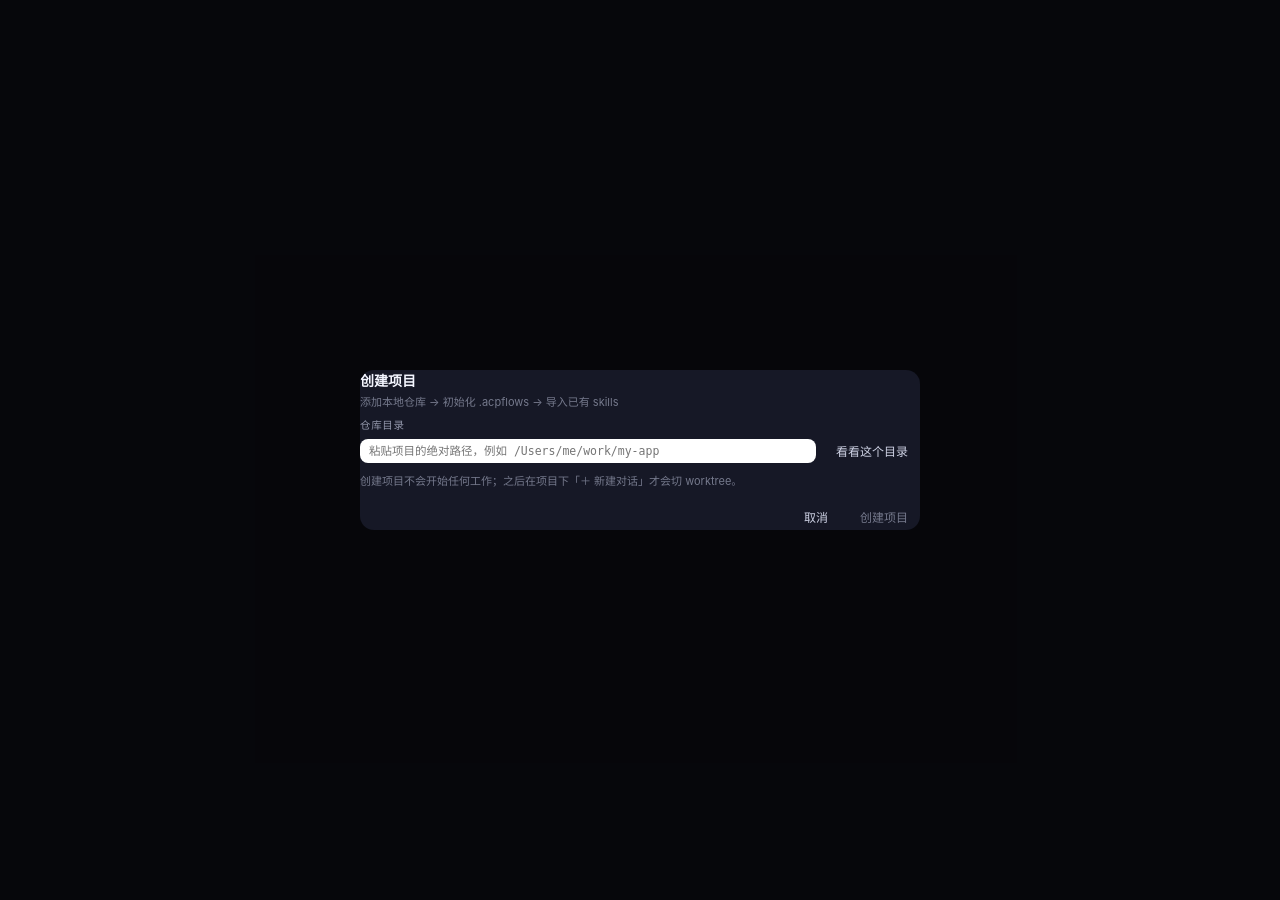
Test: 创建项目对话框 › 换目录预演失败时不留着上一次的清单
The image size is (1280, 900).
Type "/tmp/demo" into the field named "仓库目录" at (588,451), box [360, 439, 816, 463]
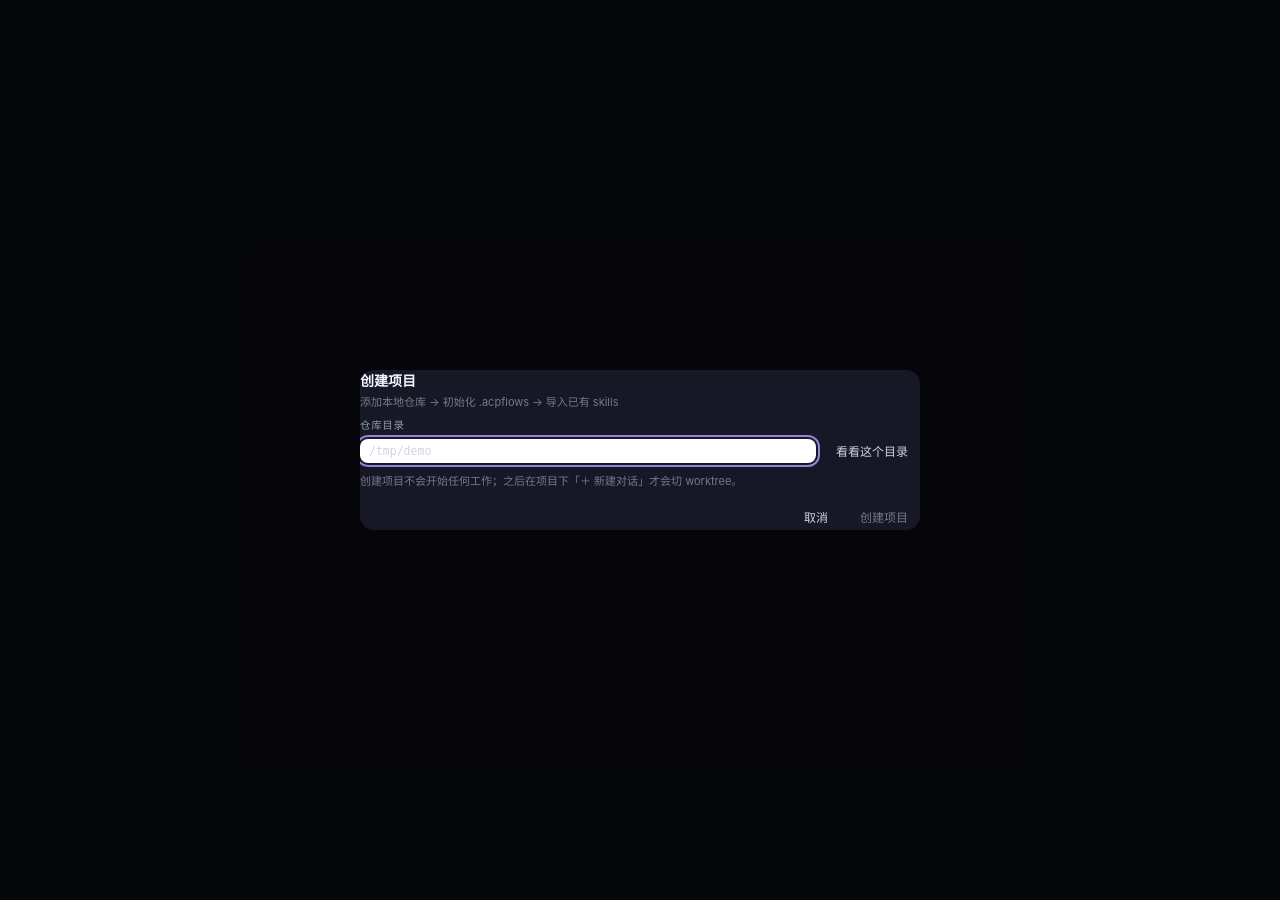
Click the button "看看这个目录" at (872,451), box [824, 437, 920, 464]
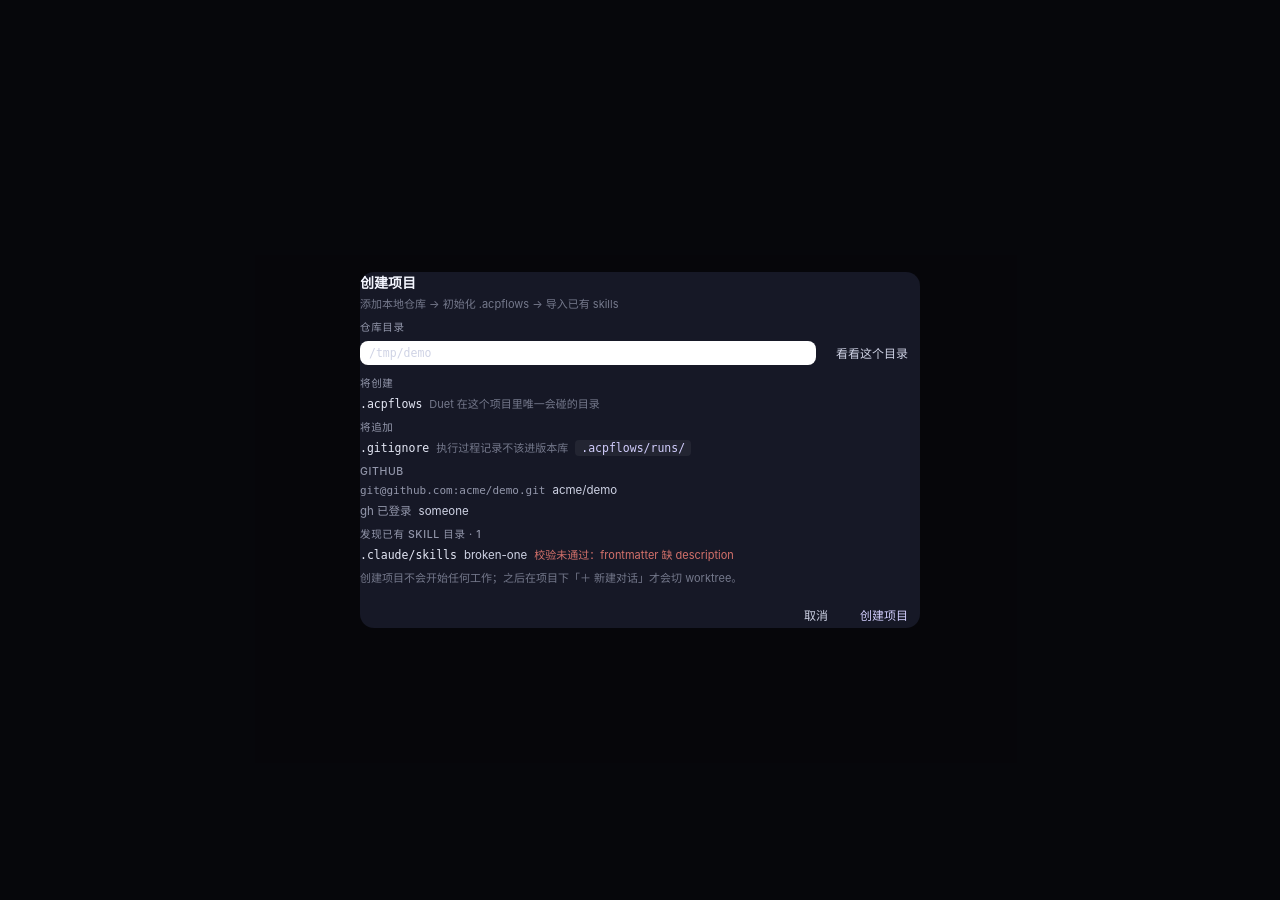
Expected: the text "Duet 在这个项目里唯一会碰的目录" is shown, [429, 395, 600, 411]
Replace the text in the field named "仓库目录" with "/tmp/nope" at (588,353), box [360, 341, 816, 365]
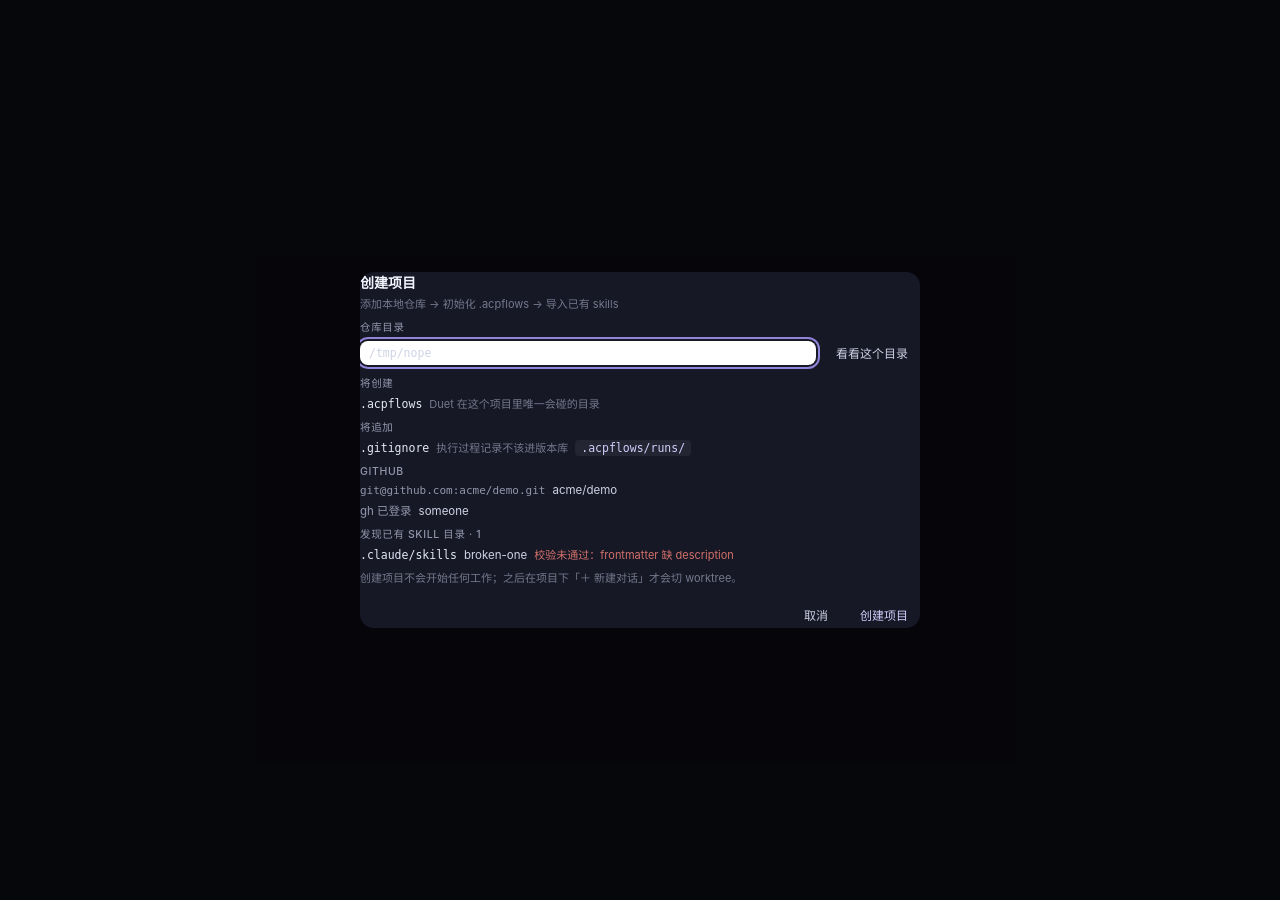
Click the button "看看这个目录" at (872,353), box [824, 340, 920, 366]
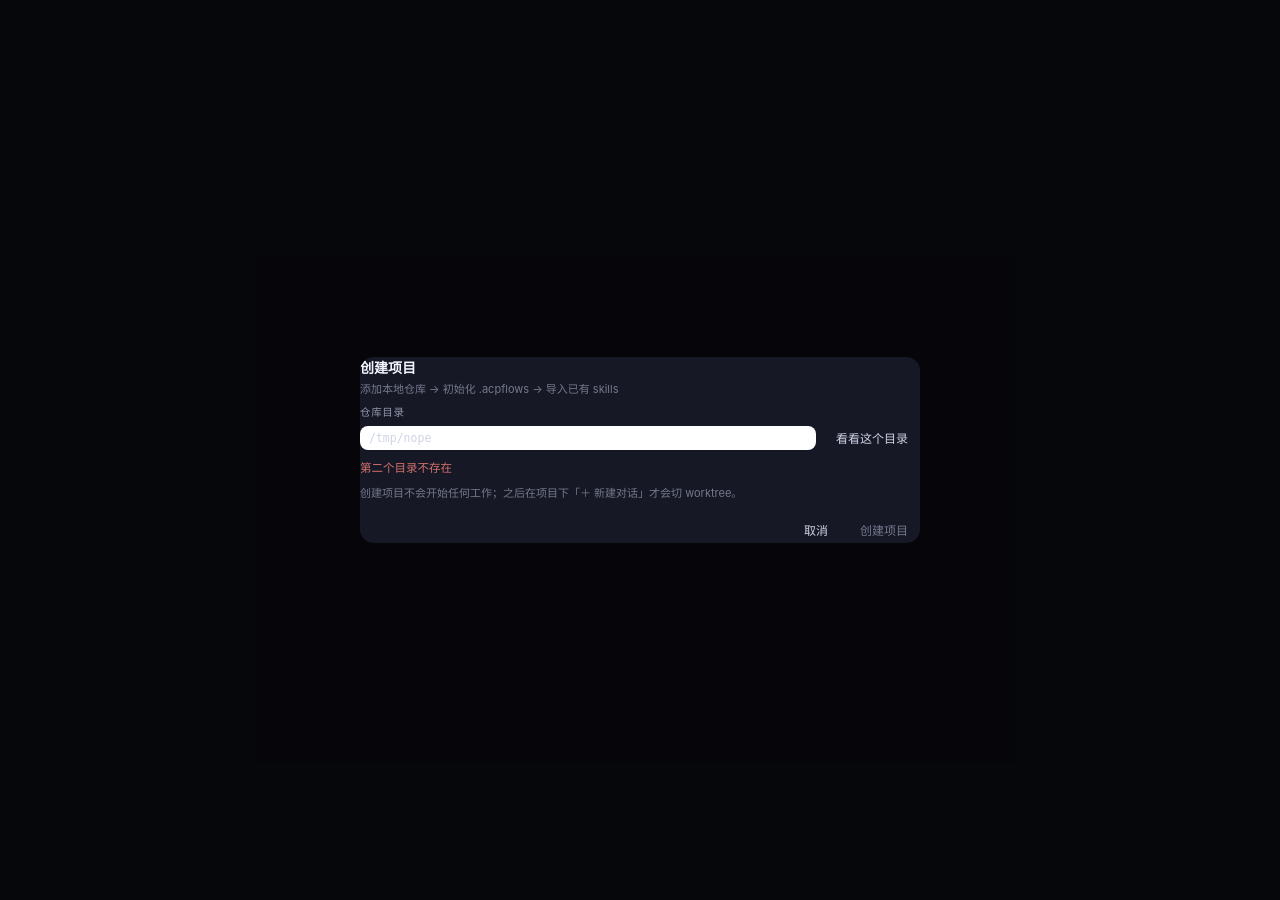
Expected: the text "第二个目录不存在" is shown, [360, 461, 452, 475]
Expected: the text "Duet 在这个项目里唯一会碰的目录" is gone
Expected: the button "创建项目" is disabled, [848, 516, 920, 543]
